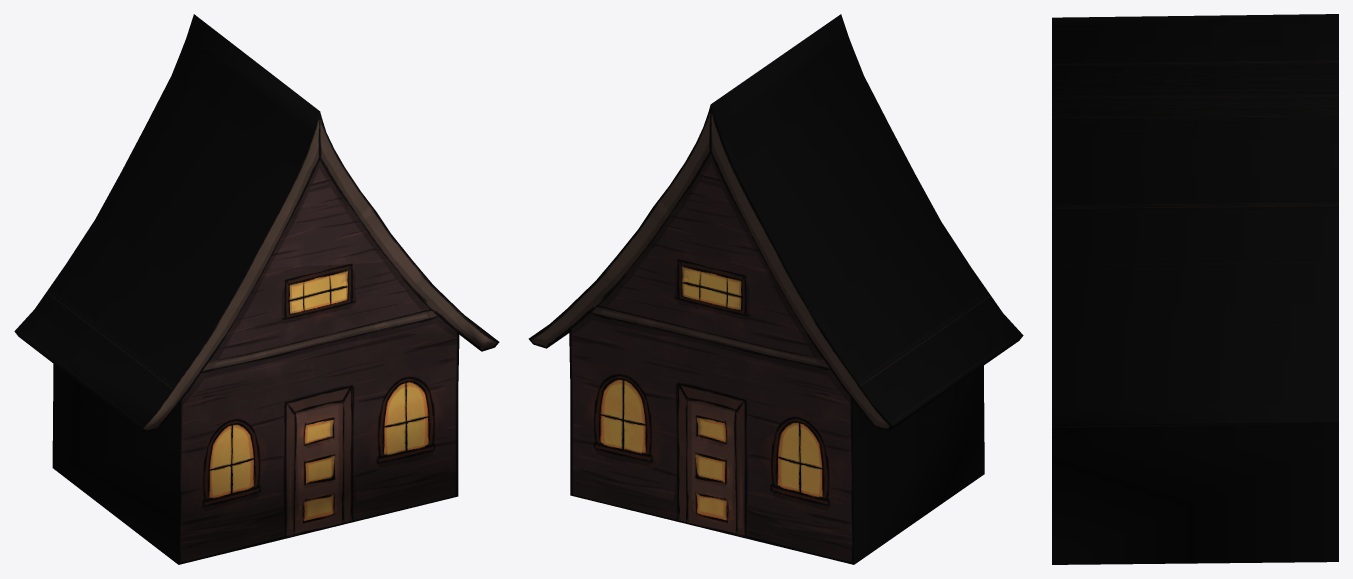
The model's file is mimi_house1.fbx.
The picture shows the model from 3 angles, left to right: view 1: azimuth 30°, elevation 25°; view 2: azimuth 150°, elevation 25°; view 3: azimuth 270°, elevation 25°; orthographic projection. The views are drawn at different scales.
Parts seen in each view (by area): view 1: House.001; view 2: House.001; view 3: House.001.
Boxes of the visible parts, x1=… form: House.001: x1=14, y1=14, x2=499, y2=564; House.001: x1=528, y1=14, x2=1023, y2=564; House.001: x1=1052, y1=14, x2=1338, y2=564.
Bounding box in the file's own units: 831 × 930 × 508.
